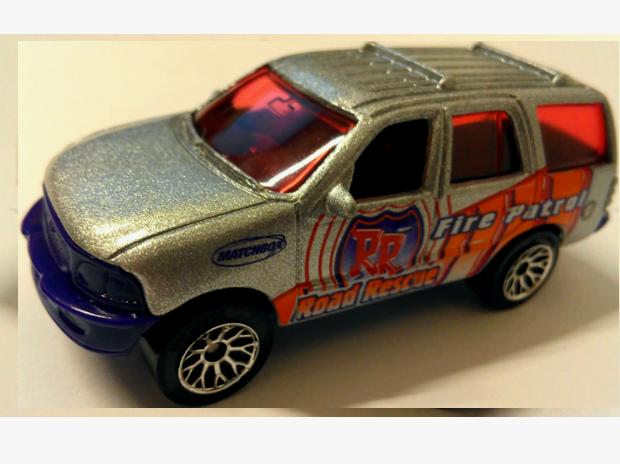toy-car: (18, 42, 619, 409)
